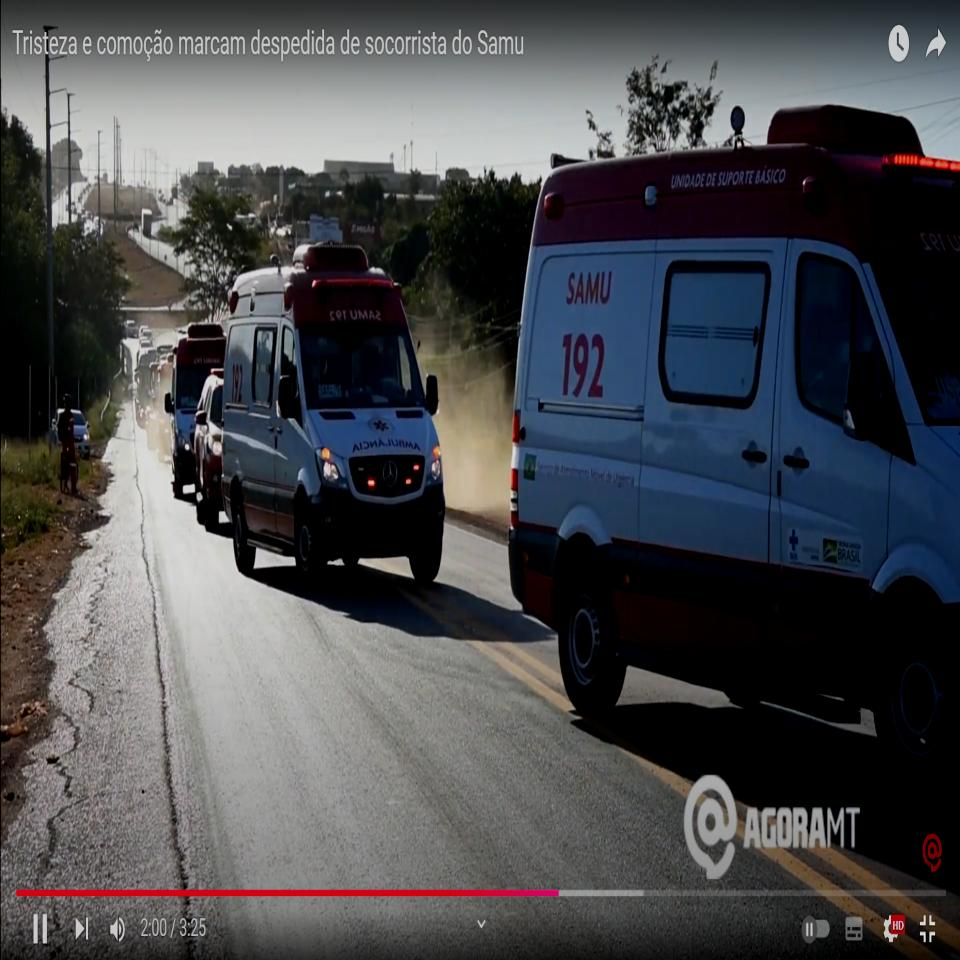ambulancia: (506, 106, 960, 791), (219, 239, 447, 583)
